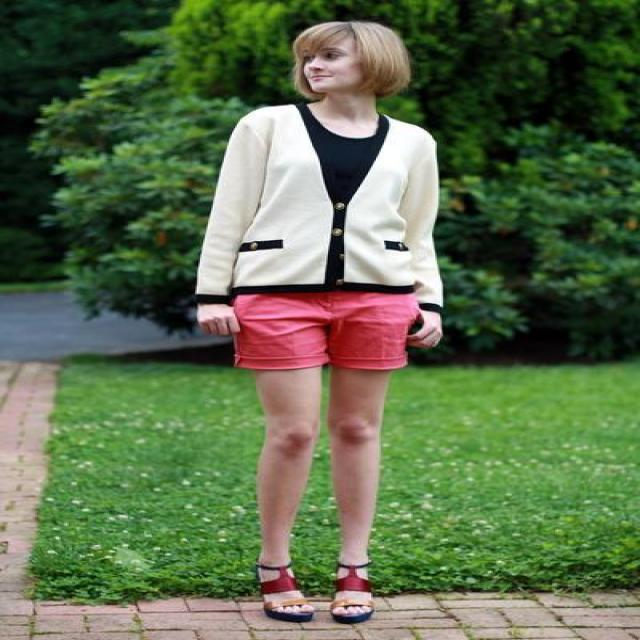jacket: (195, 105, 442, 306)
shirt: (301, 115, 389, 205)
shoe: (230, 563, 381, 624)
shorts: (211, 288, 442, 370)
